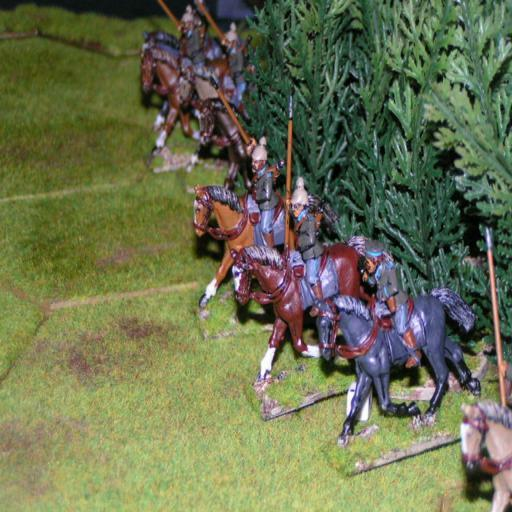Horse: (136, 28, 482, 449), (462, 401, 512, 511)
